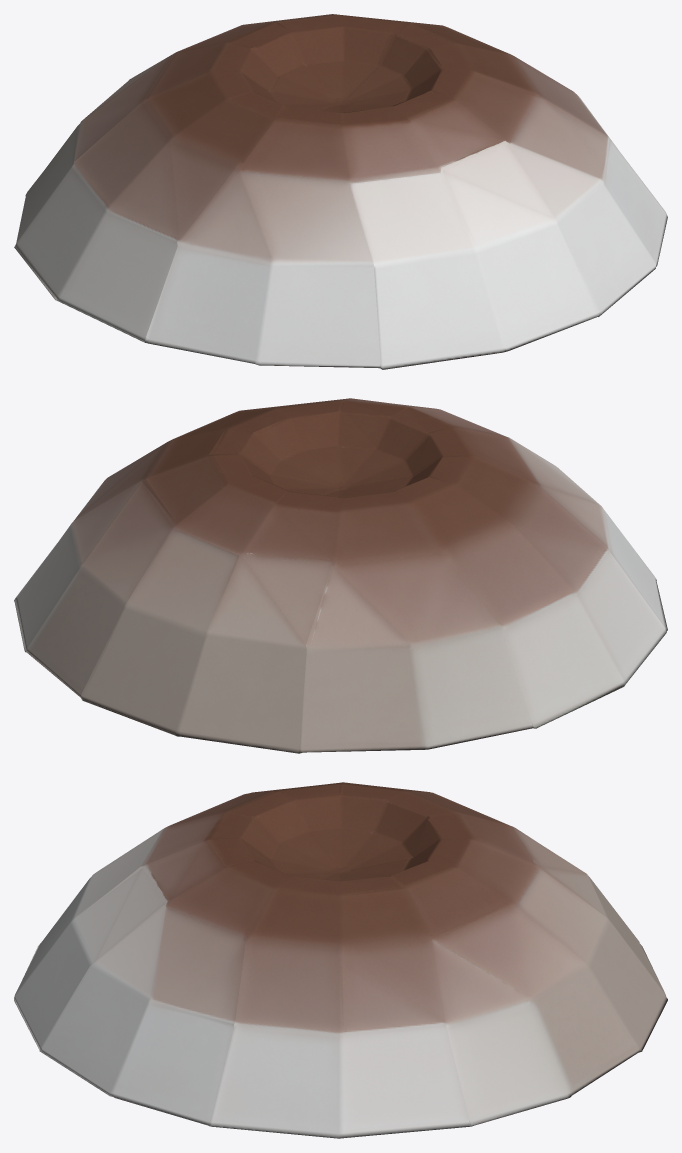
Rendered from planting_mound.glb.
3 renders of one model, top to bottom at view 1: azimuth 30°, elevation 25°; view 2: azimuth 150°, elevation 25°; view 3: azimuth 270°, elevation 25°, orthographic.
Parts seen in each view (by area): view 1: mesh_node; view 2: mesh_node; view 3: mesh_node.
Part boxes in pixels (<box>): mesh_node: <box>14,14,667,369</box>; mesh_node: <box>14,398,667,753</box>; mesh_node: <box>14,782,667,1138</box>.
Bounding box in the file's own units: 0.998 × 0.2754 × 0.9961.
1 material, 1 textured.
